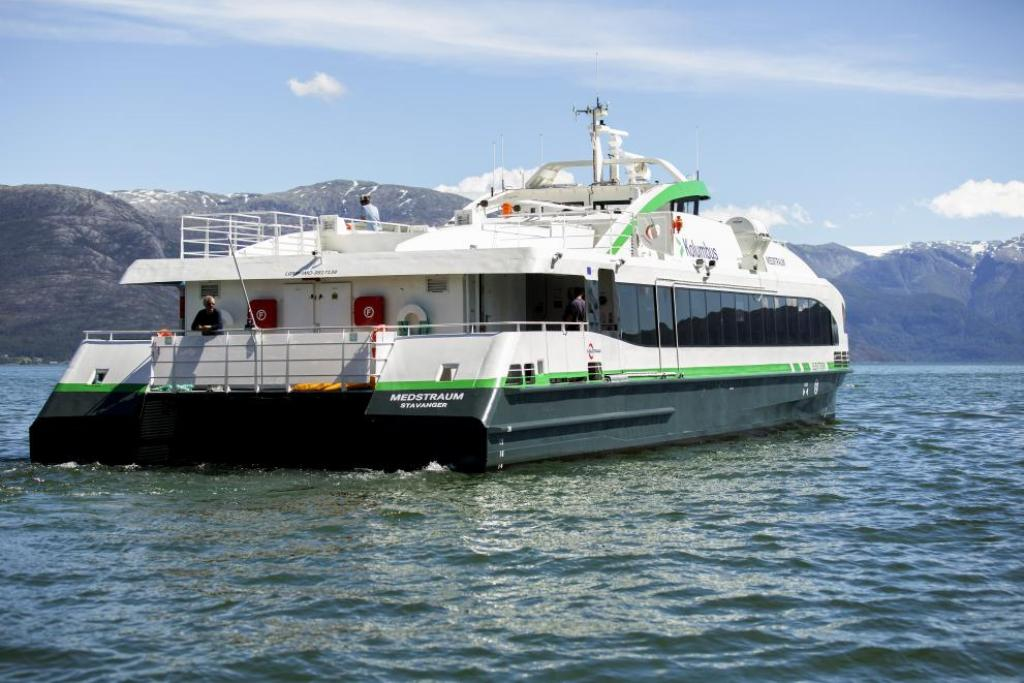PassengerShip: (21, 80, 859, 494)
